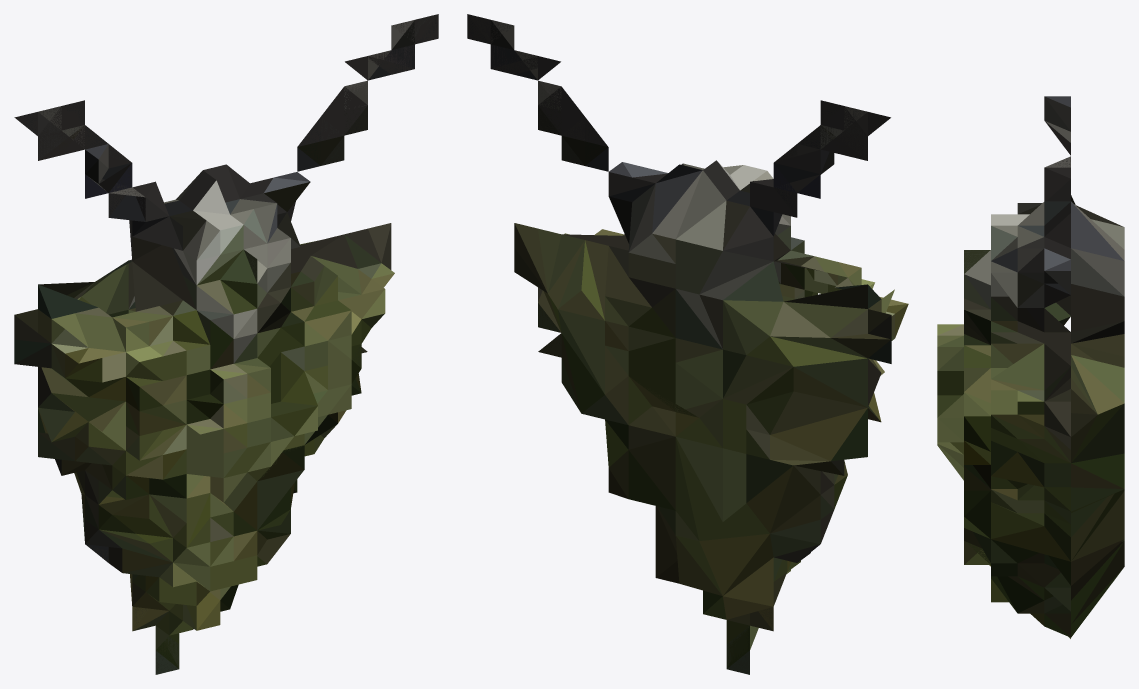
Rendered from B13_4_verdant_shard_amulet.obj.
The picture shows the model from 3 angles, left to right: view 1: azimuth 30°, elevation 25°; view 2: azimuth 150°, elevation 25°; view 3: azimuth 270°, elevation 25°; orthographic projection.
Parts seen in each view (by area): view 1: B13_4_verdant_shard_amulet; view 2: B13_4_verdant_shard_amulet; view 3: B13_4_verdant_shard_amulet.
Boxes of the visible parts, bbox=[...] form: B13_4_verdant_shard_amulet: bbox=[14, 14, 438, 674]; B13_4_verdant_shard_amulet: bbox=[467, 14, 908, 674]; B13_4_verdant_shard_amulet: bbox=[937, 96, 1124, 638].
Size of the model in its own units: 18 by 24 by 7.
